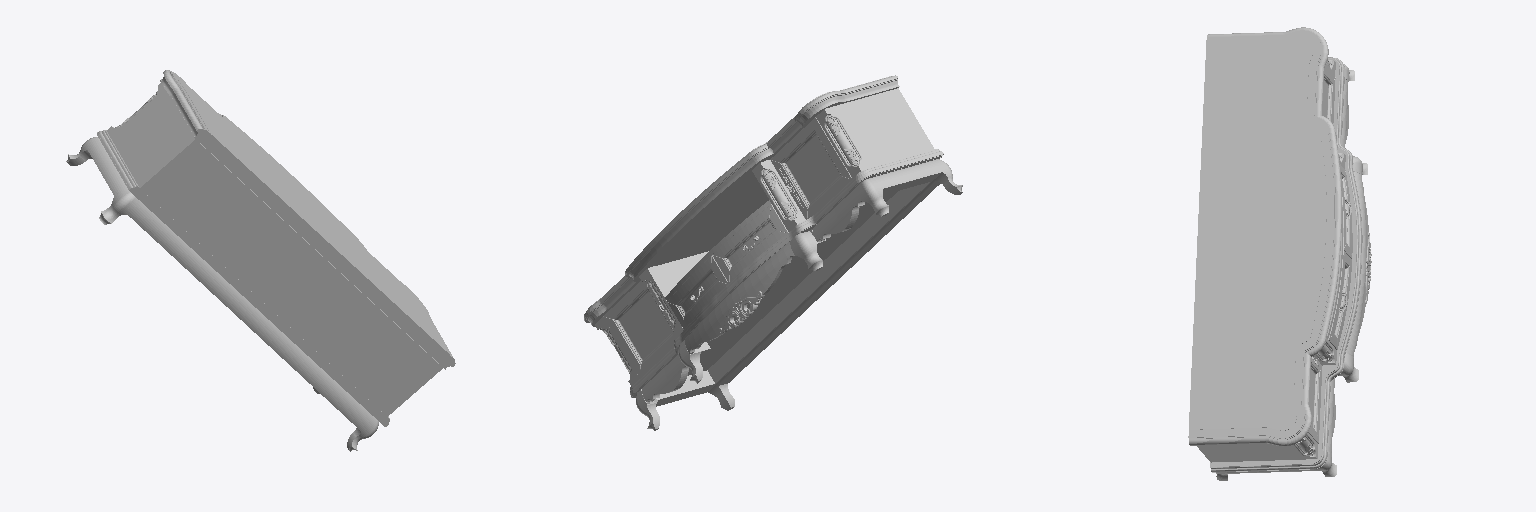
Rendered from desk2.obj.
3 renders of one model, left to right at view 1: azimuth 30°, elevation 25°; view 2: azimuth 150°, elevation 25°; view 3: azimuth 270°, elevation 25°, orthographic.
Visible parts, largest first — view 1: Object.1; view 2: Object.1; view 3: Object.1.
Boxes of the visible parts, <box> form: Object.1: <box>66,70,455,451</box>; Object.1: <box>584,75,962,430</box>; Object.1: <box>1188,27,1371,480</box>.
Size of the model in its own units: 5576 by 5820 by 2525.